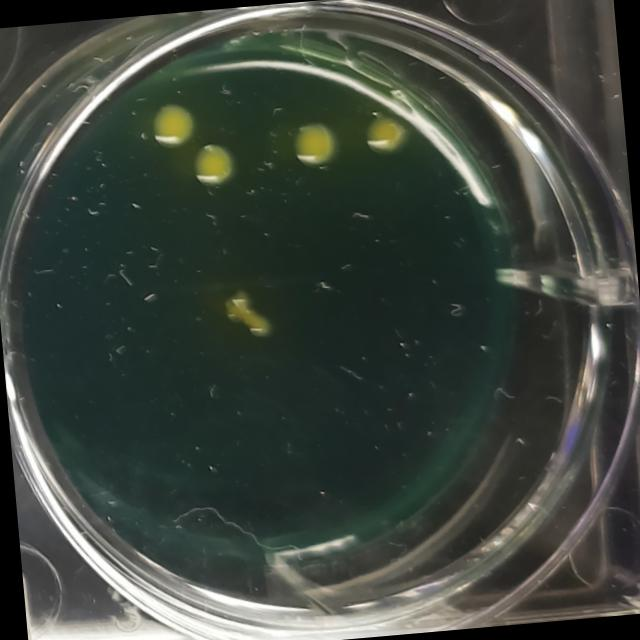vibrio: (283, 108, 345, 173), (212, 286, 270, 351), (142, 92, 202, 152), (188, 134, 243, 194), (352, 106, 402, 159)
